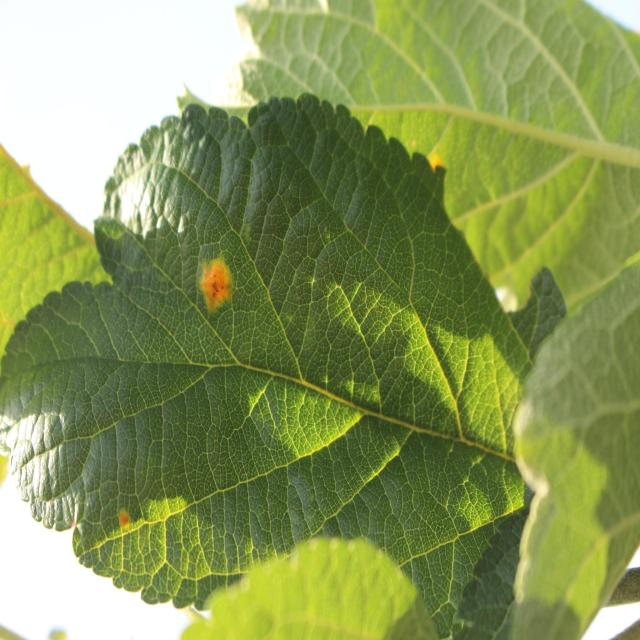Rust: (188, 246, 242, 324), (107, 490, 143, 550)
